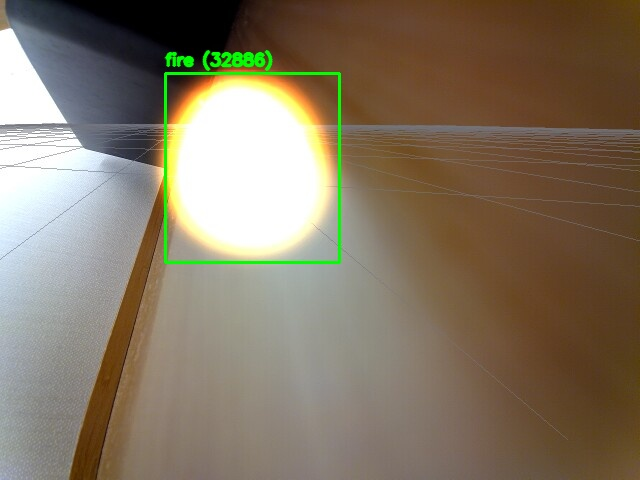fire: (165, 73, 339, 262)
